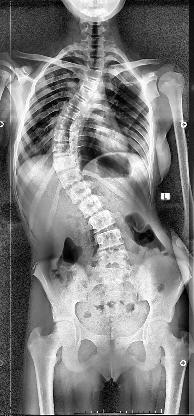Vertebrae: (66, 180, 94, 206), (88, 209, 118, 233), (77, 192, 104, 218), (96, 228, 124, 250), (58, 169, 84, 189), (68, 92, 90, 112), (50, 142, 77, 158), (51, 156, 78, 172), (54, 115, 78, 132), (61, 104, 83, 121), (76, 84, 96, 102), (52, 128, 76, 142), (80, 78, 102, 92), (86, 56, 106, 70), (86, 46, 108, 58), (84, 68, 104, 80)
